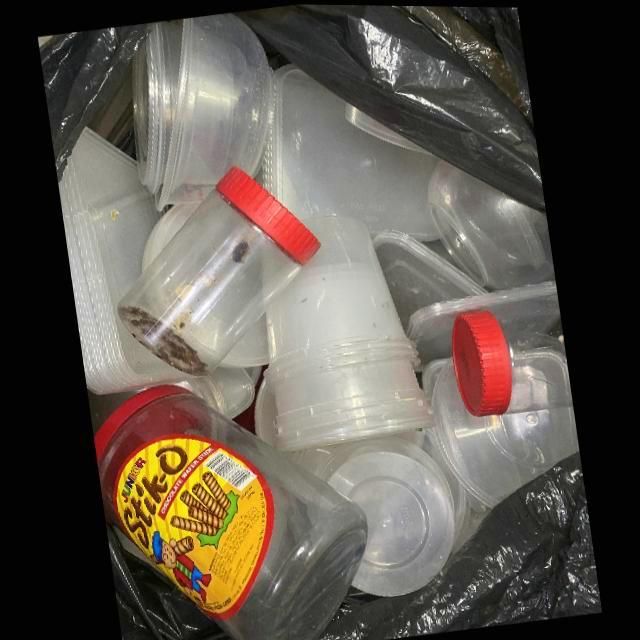plastic_container: (94, 383, 368, 640), (117, 164, 322, 375), (265, 214, 434, 450), (58, 126, 184, 393), (134, 12, 274, 210), (315, 434, 455, 595), (425, 160, 554, 286), (452, 298, 573, 415)
